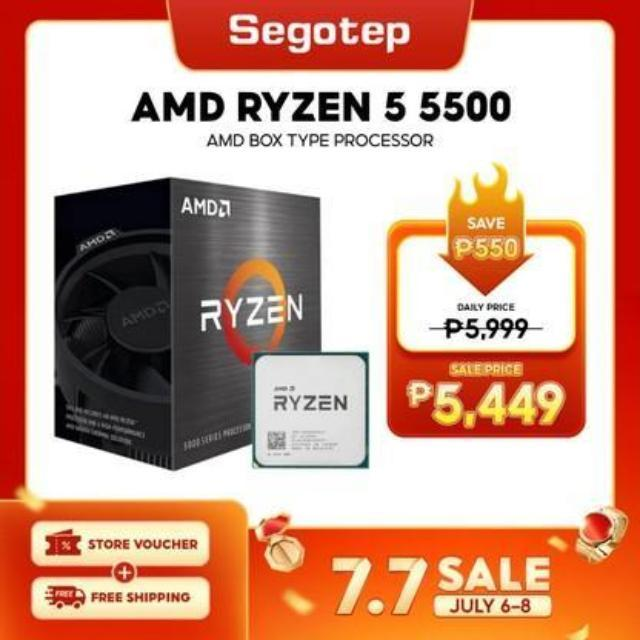CPU: (252, 350, 366, 472)
